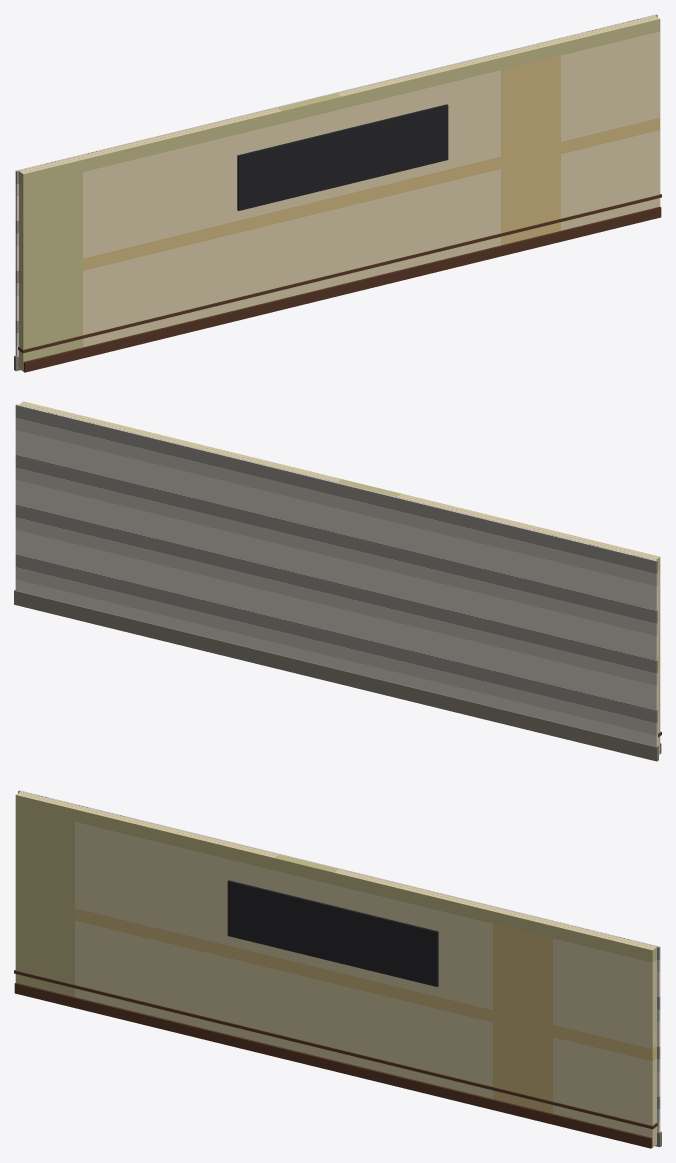
File: back.glb
3 renders of one model, top to bottom at view 1: azimuth 30°, elevation 25°; view 2: azimuth 150°, elevation 25°; view 3: azimuth 330°, elevation 25°, orthographic.
Visible parts, largest first — view 1: Box1, Box5, Box2, Box6, Box7, Box3; view 2: Box3, Box4, Box1; view 3: Box1, Box5, Box2, Box6, Box7, Box3.
Boxes of the visible parts, box(x1,y1,x2,y2) form: Box1: box(19, 15, 660, 371); Box5: box(237, 104, 448, 210); Box2: box(23, 206, 661, 372); Box6: box(19, 198, 660, 371); Box7: box(18, 194, 661, 353); Box3: box(15, 14, 657, 356); Box3: box(15, 404, 657, 746); Box4: box(14, 589, 658, 761); Box1: box(19, 401, 660, 754); Box1: box(15, 791, 656, 1147); Box5: box(227, 880, 438, 986); Box2: box(14, 982, 652, 1148); Box6: box(15, 974, 656, 1147); Box7: box(14, 970, 657, 1129); Box3: box(18, 790, 660, 1132).
Size of the model in its own units: 12.27 by 3.64 by 0.26.
5 materials, 2 textured.
